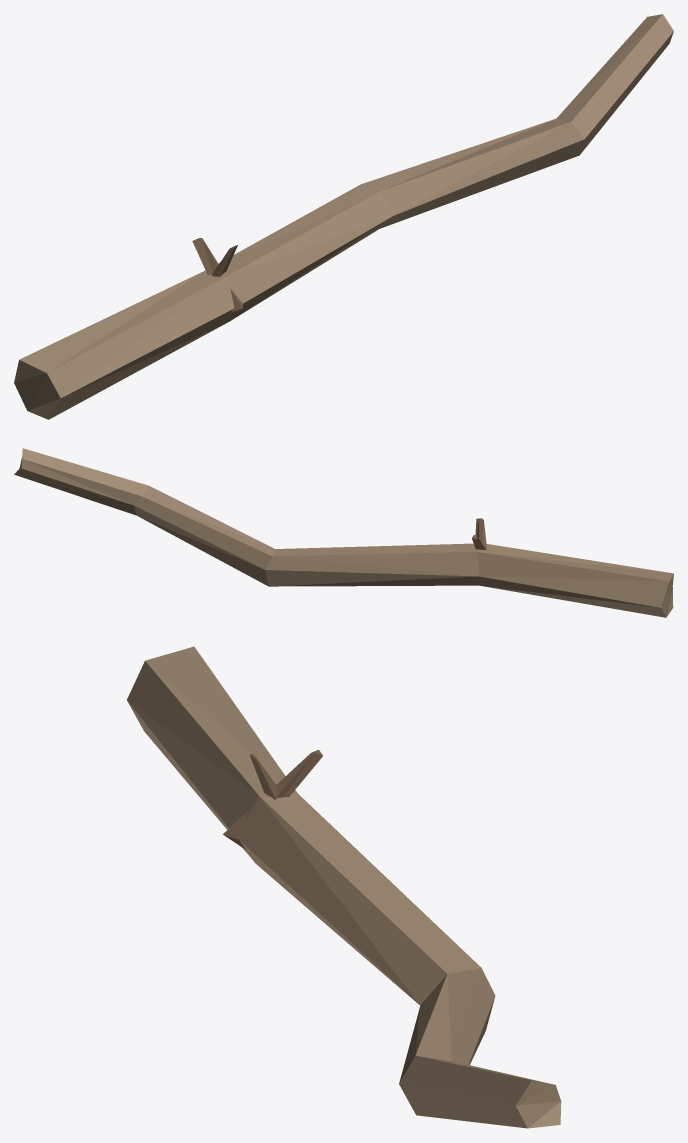
Rendered from driftwood_b.glb.
The picture shows the model from 3 angles, top to bottom: view 1: azimuth 30°, elevation 25°; view 2: azimuth 150°, elevation 25°; view 3: azimuth 270°, elevation 25°; orthographic projection. The views are drawn at different scales.
Parts seen in each view (by area): view 1: driftwood_b; view 2: driftwood_b; view 3: driftwood_b.
Part boxes in pixels (x1,y1,x2,y2): driftwood_b: [14, 14, 673, 419]; driftwood_b: [14, 448, 673, 617]; driftwood_b: [127, 646, 561, 1128].
Bounding box in the file's own units: 2.45 × 0.3965 × 0.8114.
1 material, 1 textured.
